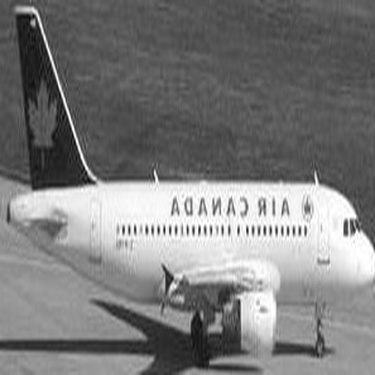airplane: (6, 3, 372, 373)
